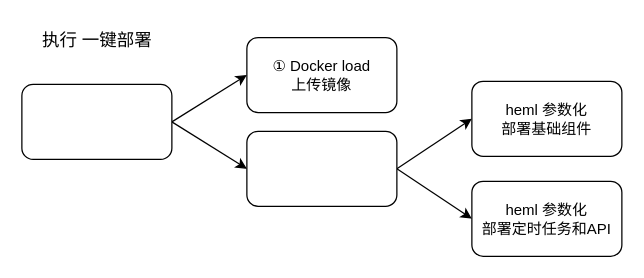
This 644x278 diagram has some shape labels left out. Here are the shapes that lost their labels. From the top down, the centre of each, then its label:
the point at 96,121: install.sh
the point at 321,168: ② 创建、准备两个 helm chart里面的 参数及部署文件
